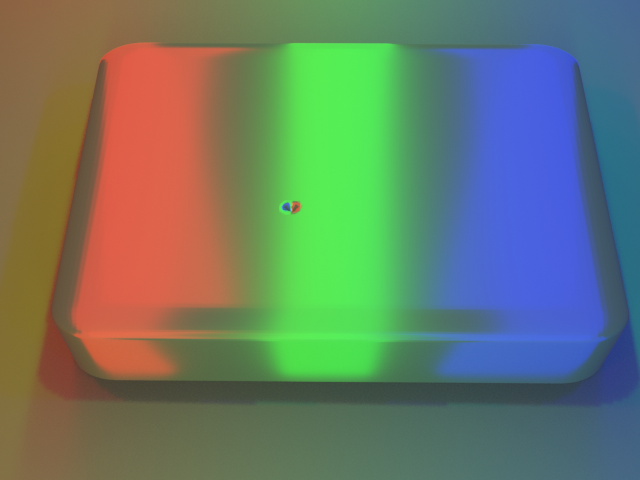dent: (267, 187, 310, 224)
